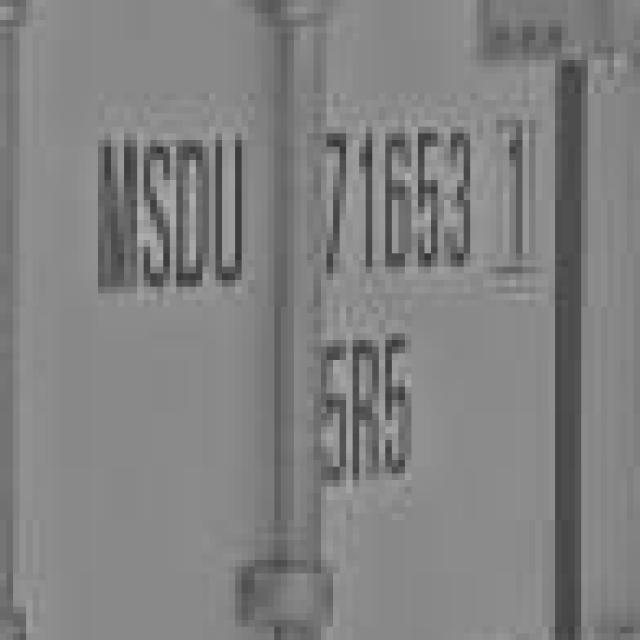dv: (485, 110, 546, 281)
owner: (69, 108, 267, 314)
serial: (308, 115, 476, 282)
size: (295, 336, 425, 492)
